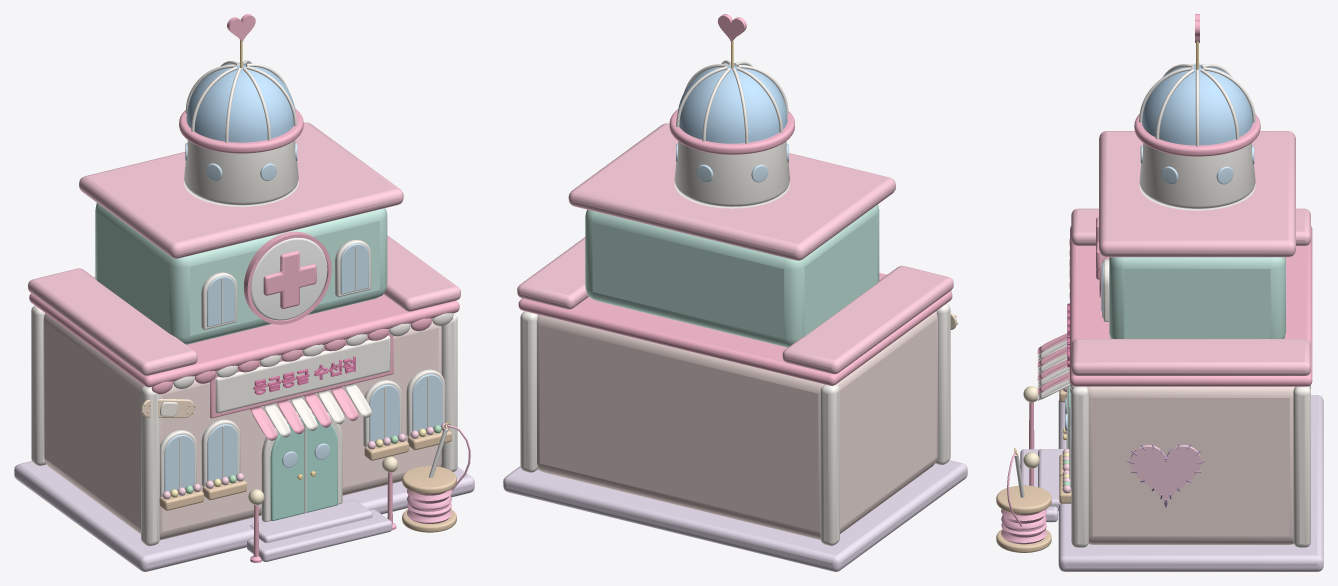
Rendered from ToyHospital.fbx.
3 views of the same model, side by side, from view 1: azimuth 30°, elevation 25°; view 2: azimuth 150°, elevation 25°; view 3: azimuth 270°, elevation 25° (orthographic).
Parts seen in each view (by area): view 1: TH_Hospital; view 2: TH_Hospital; view 3: TH_Hospital.
Part boxes in pixels (<box>): TH_Hospital: <box>14,14,474,571</box>; TH_Hospital: <box>503,14,967,571</box>; TH_Hospital: <box>996,14,1323,571</box>.
Size of the model in its own units: 3.1 by 4.14 by 2.6.
